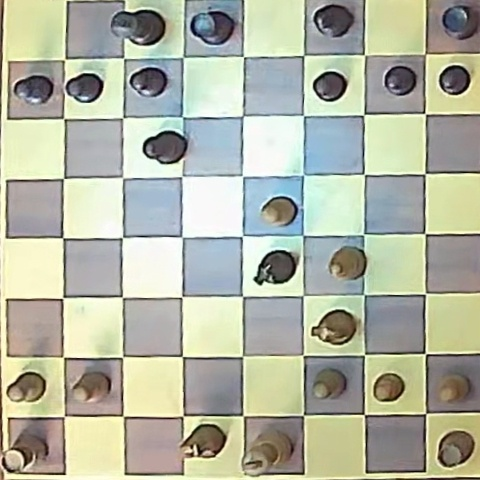black-bishop: (143, 130, 186, 164), (313, 4, 353, 38)
black-king: (111, 9, 164, 46)
black-knight: (254, 250, 296, 285)
black-pawn: (14, 75, 54, 104), (129, 67, 167, 97), (66, 72, 104, 102), (383, 65, 417, 95), (313, 71, 346, 101), (438, 65, 471, 95)
black-rook: (190, 10, 235, 45), (441, 5, 477, 39)
white-bishop: (328, 246, 366, 281)
white-king: (243, 429, 292, 476)
white-knight: (312, 310, 356, 346), (179, 424, 225, 458)
white-pawn: (6, 372, 46, 403), (71, 372, 110, 403), (260, 197, 296, 227), (312, 369, 345, 399), (373, 373, 404, 402), (438, 375, 468, 403)
white-rook: (0, 433, 45, 474), (437, 431, 474, 468)
